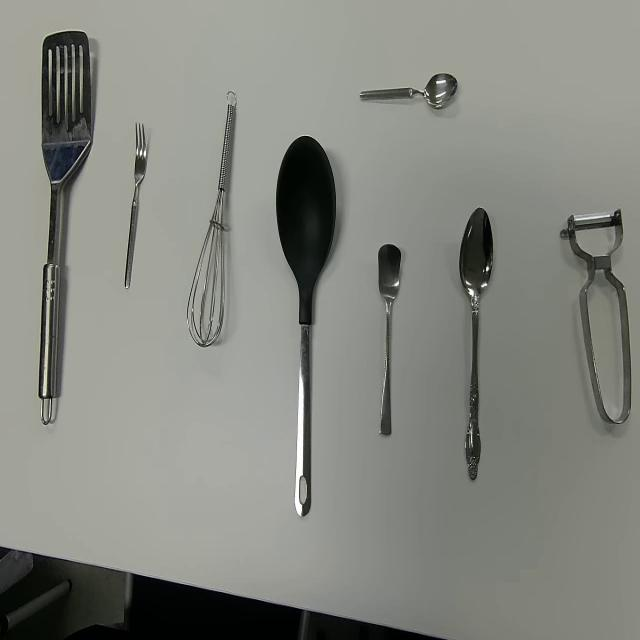Desert-Spoon: (458, 206, 494, 482)
Dinner-Fork: (124, 120, 148, 290)
Peeler: (560, 206, 632, 426)
Serving-Spoon: (275, 134, 337, 516), (38, 28, 94, 426)
Tea-Spoon: (377, 241, 402, 436), (359, 70, 458, 109)
Whisk: (186, 89, 237, 348)
